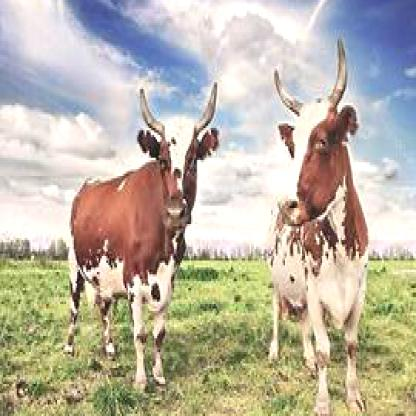cow: (64, 80, 218, 393), (267, 36, 368, 414)
